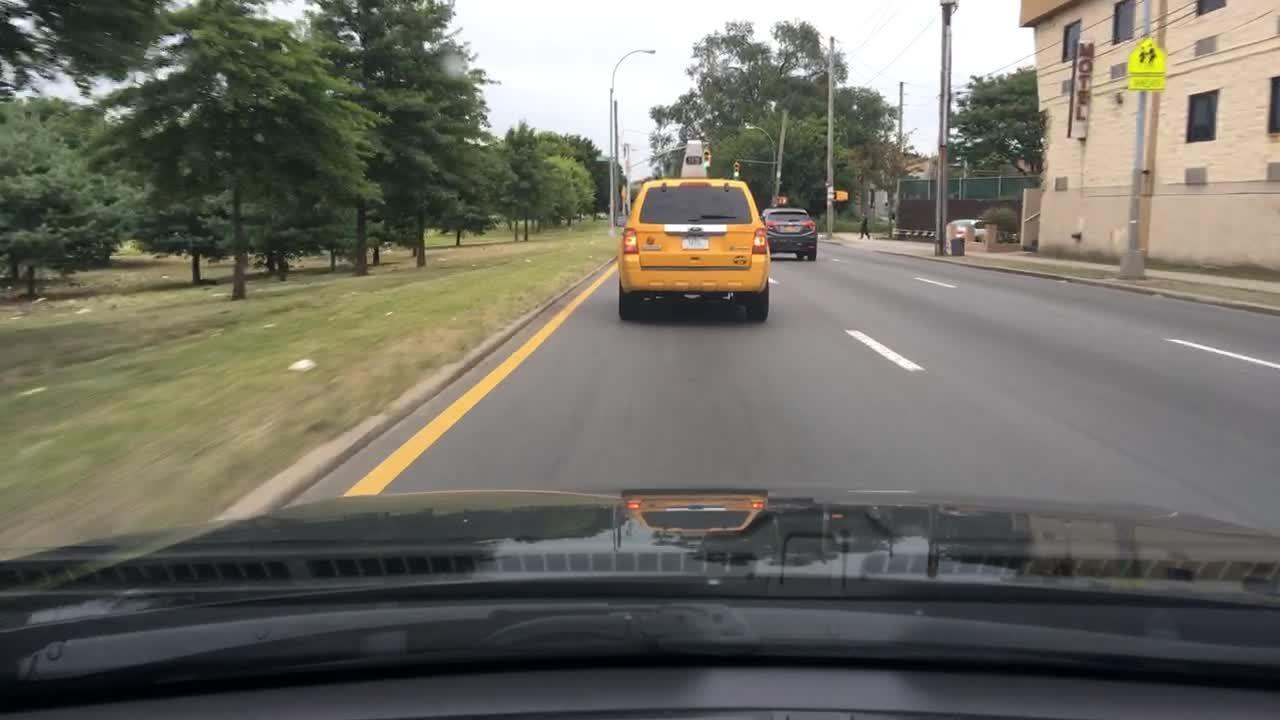ford: (688, 226, 703, 233)
